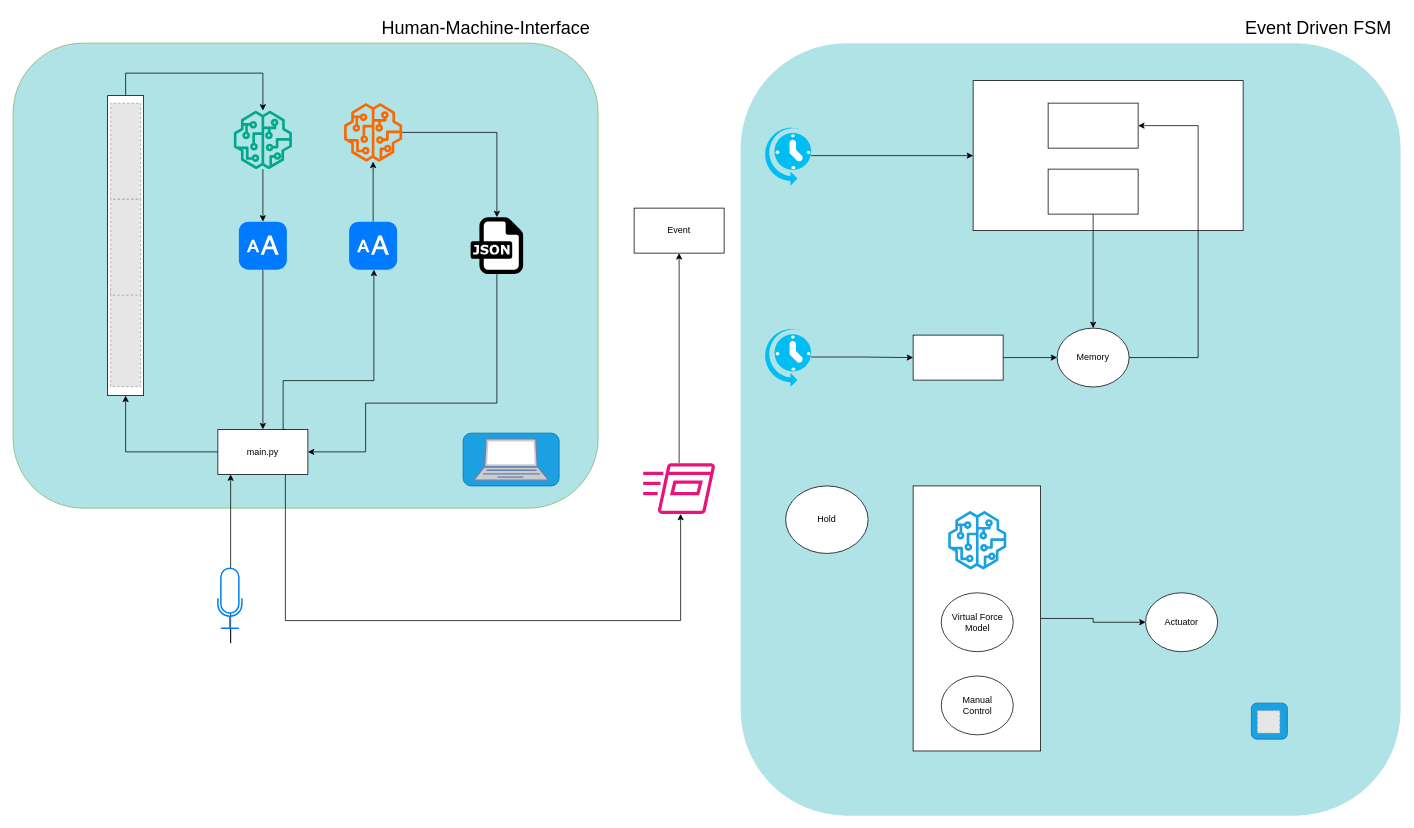
This 1414x828 diagram has some shape labels left out. Grey dashed boxes stand in for pictures. Each missing label, with the box of its shape:
Read Sensor Data: (912, 334, 1003, 380)
Receive Data: (1047, 168, 1138, 214)
Send Data: (1047, 102, 1138, 148)
